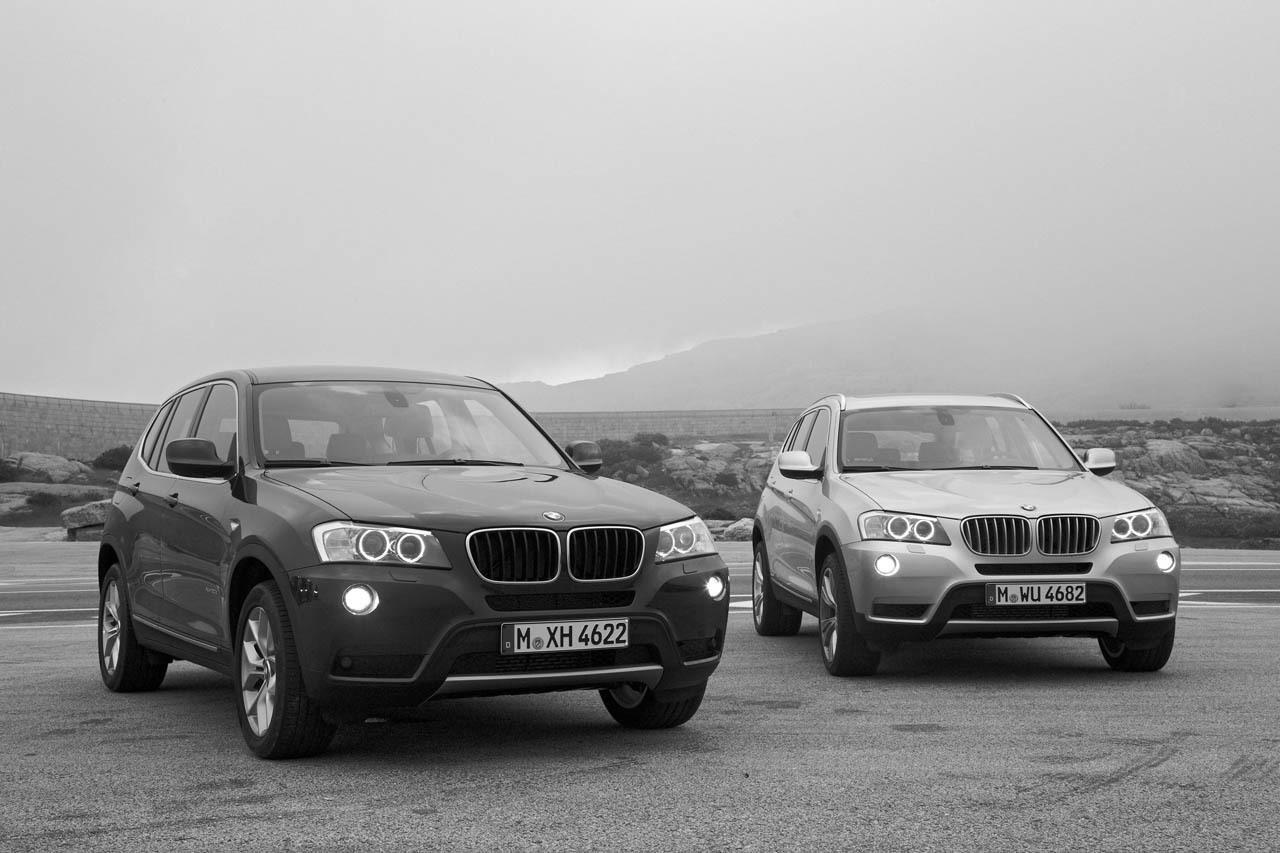car: (89, 358, 738, 766)
